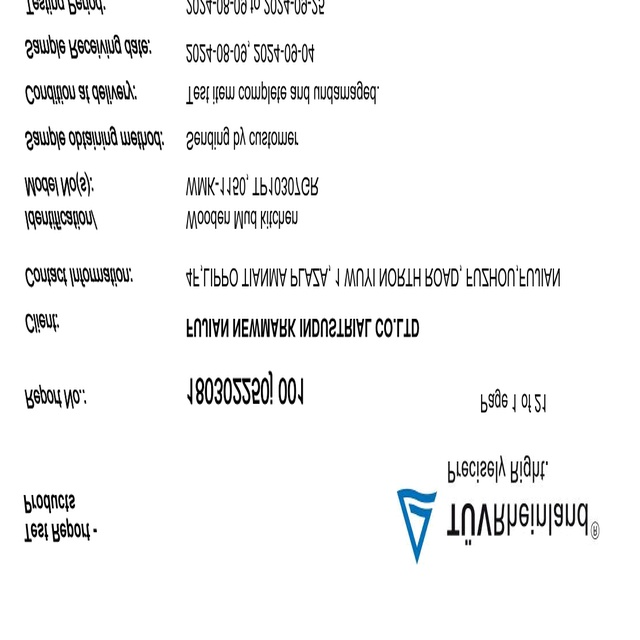tuv_rheinland: (396, 486, 603, 563)
